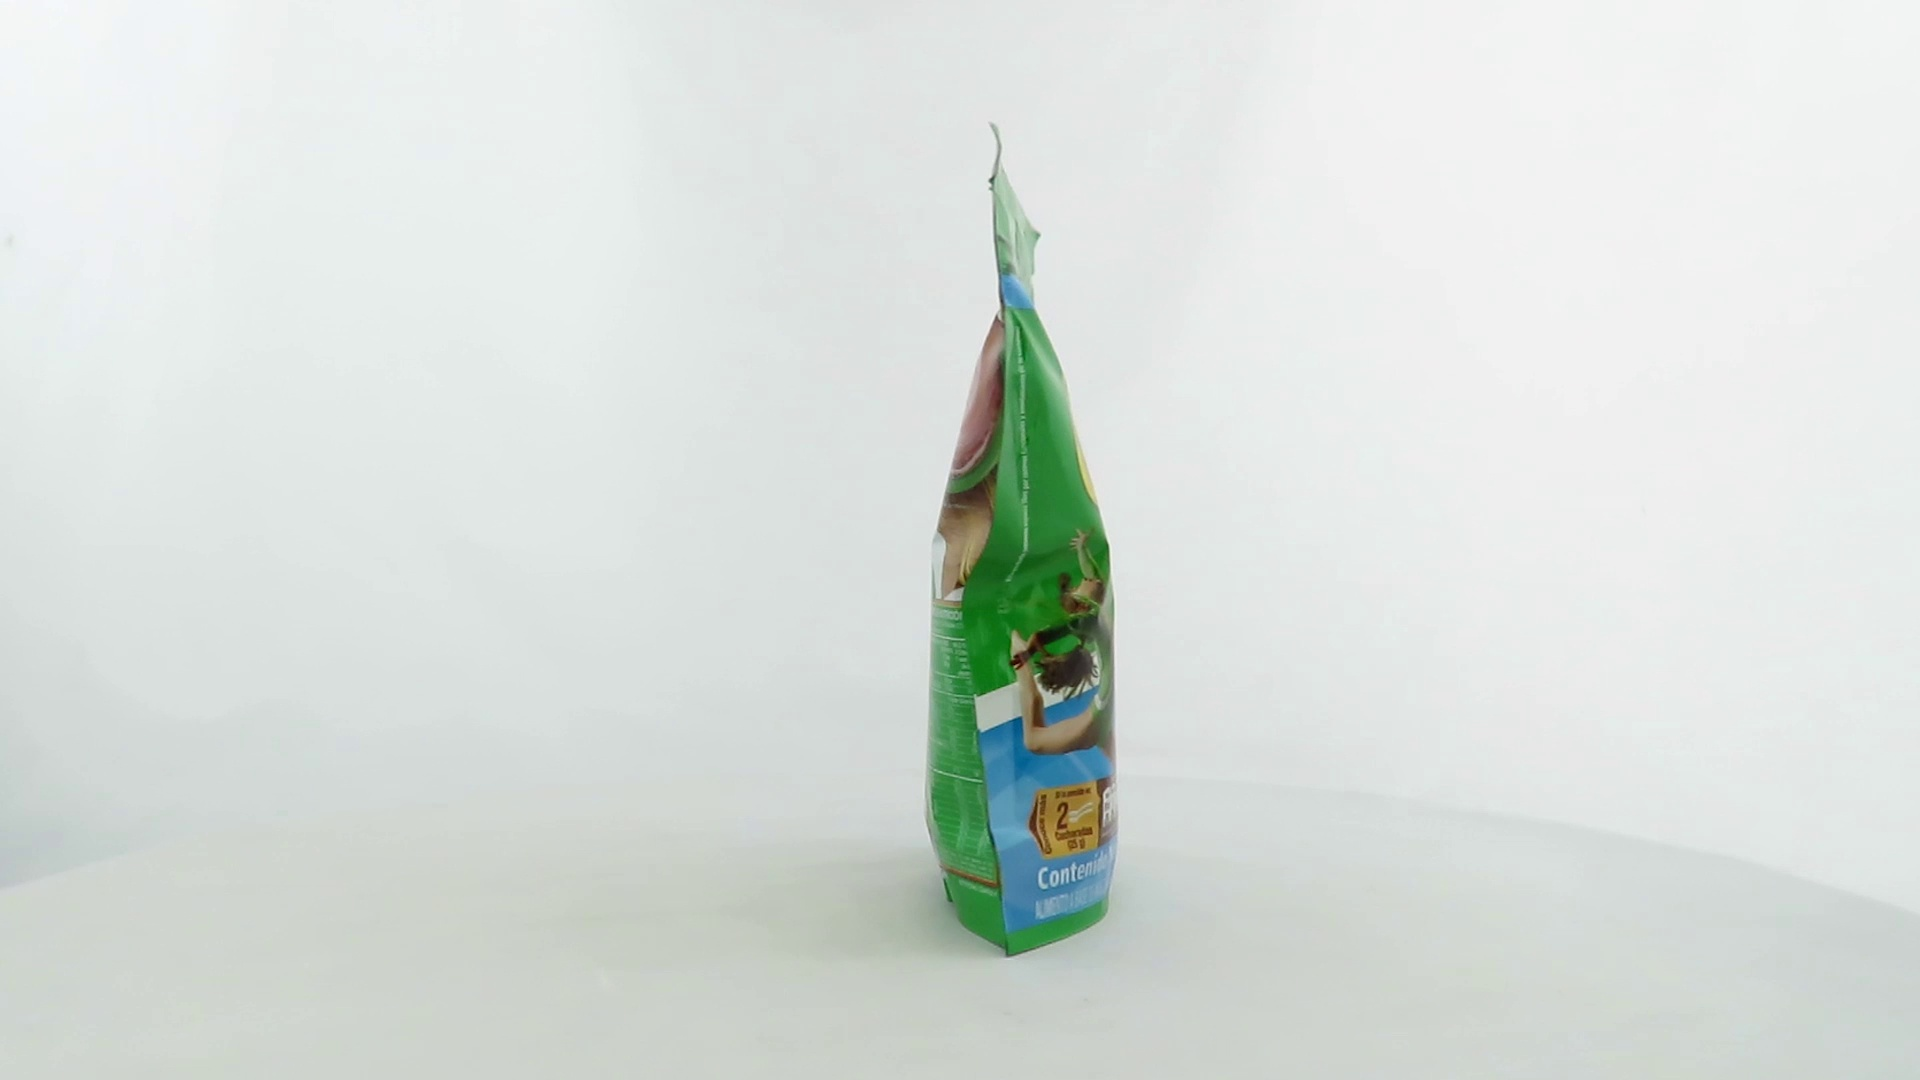COL0170205DYP20000: (919, 116, 1125, 965)
